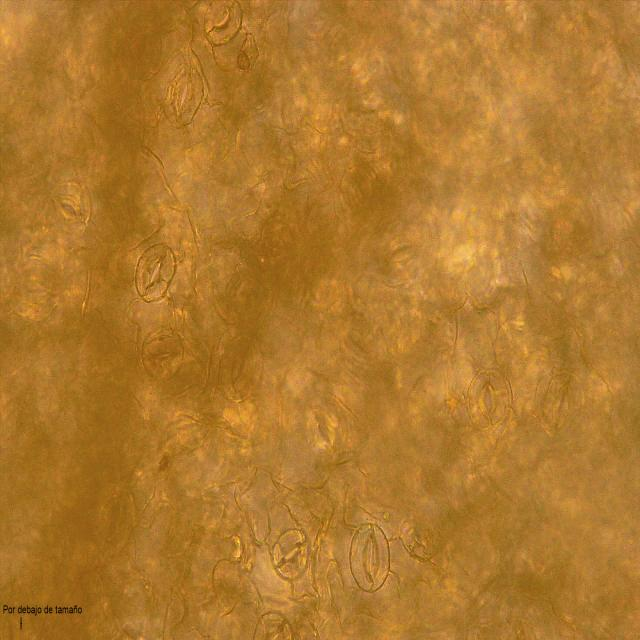Stomata: (538, 367, 586, 443), (217, 332, 264, 405), (466, 367, 514, 431), (162, 61, 206, 129), (349, 523, 391, 592), (134, 242, 178, 303), (141, 324, 185, 382), (49, 181, 92, 238), (271, 526, 309, 582), (202, 0, 244, 46)
